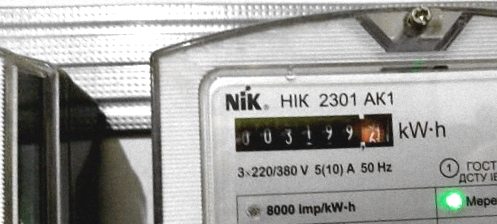0: (237, 126, 252, 146), (260, 124, 273, 144)
1: (301, 120, 313, 140)
3: (281, 126, 293, 146)
6: (365, 128, 377, 145)
9: (342, 122, 355, 141), (322, 121, 333, 140)
screen: (224, 91, 403, 175)
